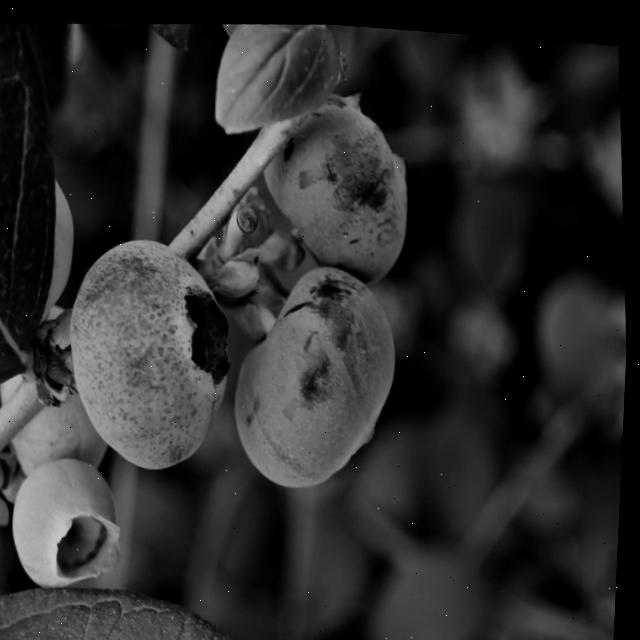RipeBlueBerry: (65, 235, 244, 481), (231, 254, 412, 494), (248, 66, 416, 286)
UnripeBlueBerry: (8, 453, 132, 591)
